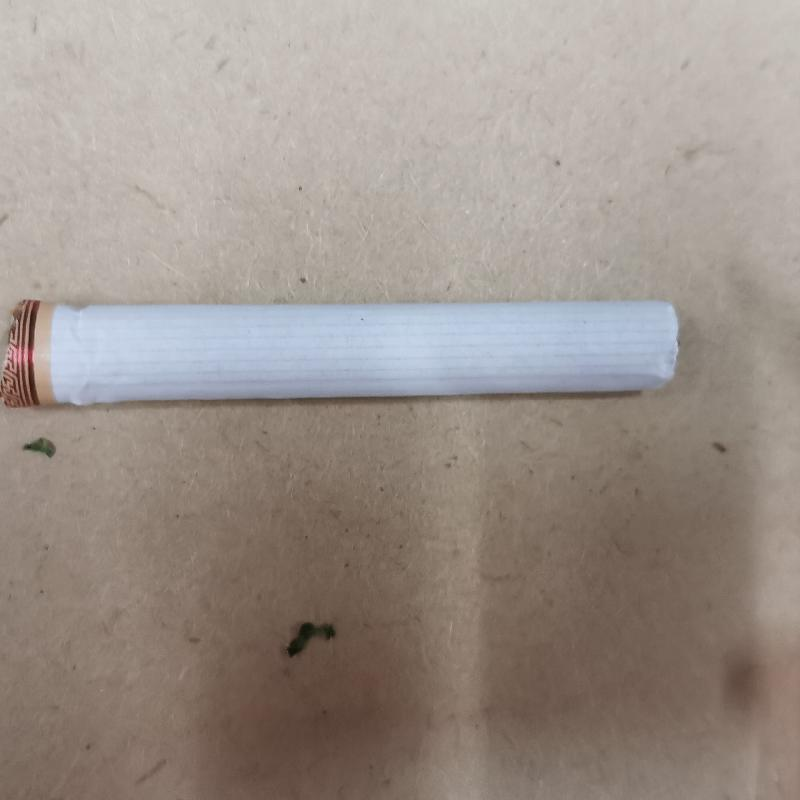cigarette: (6, 290, 686, 405)
